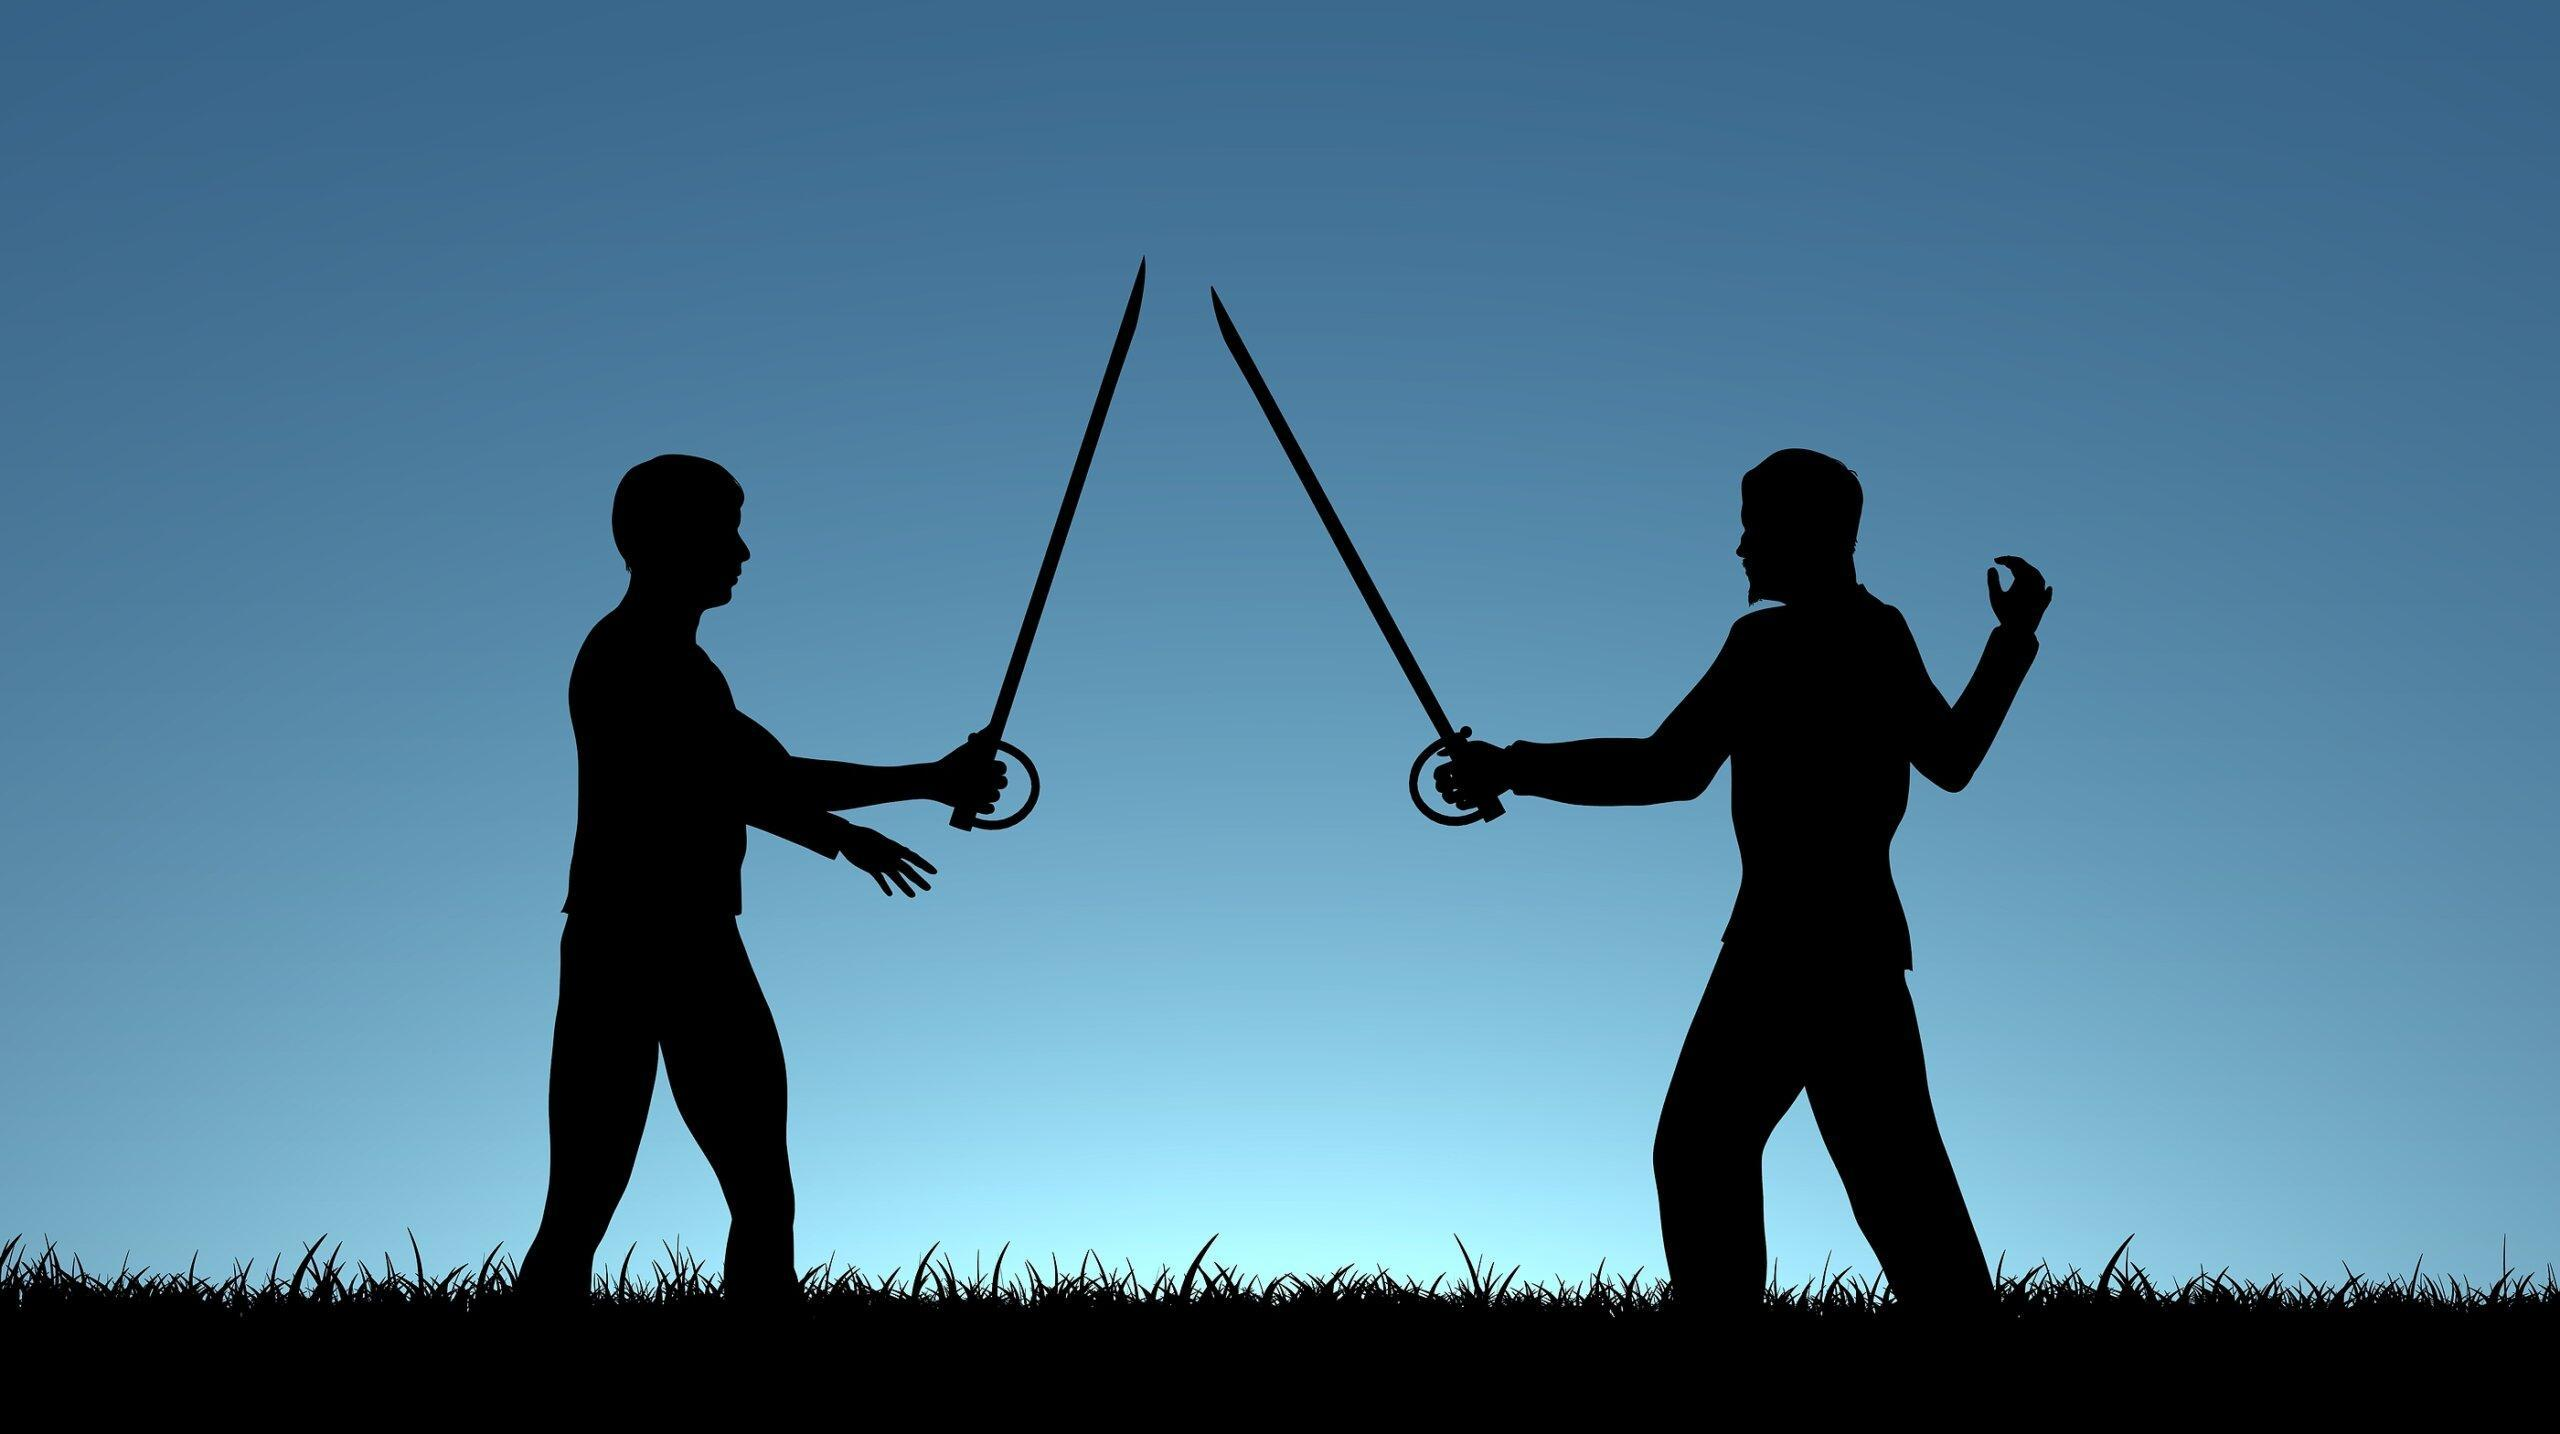espada: (1176, 98, 1530, 887), (840, 95, 1182, 889)
